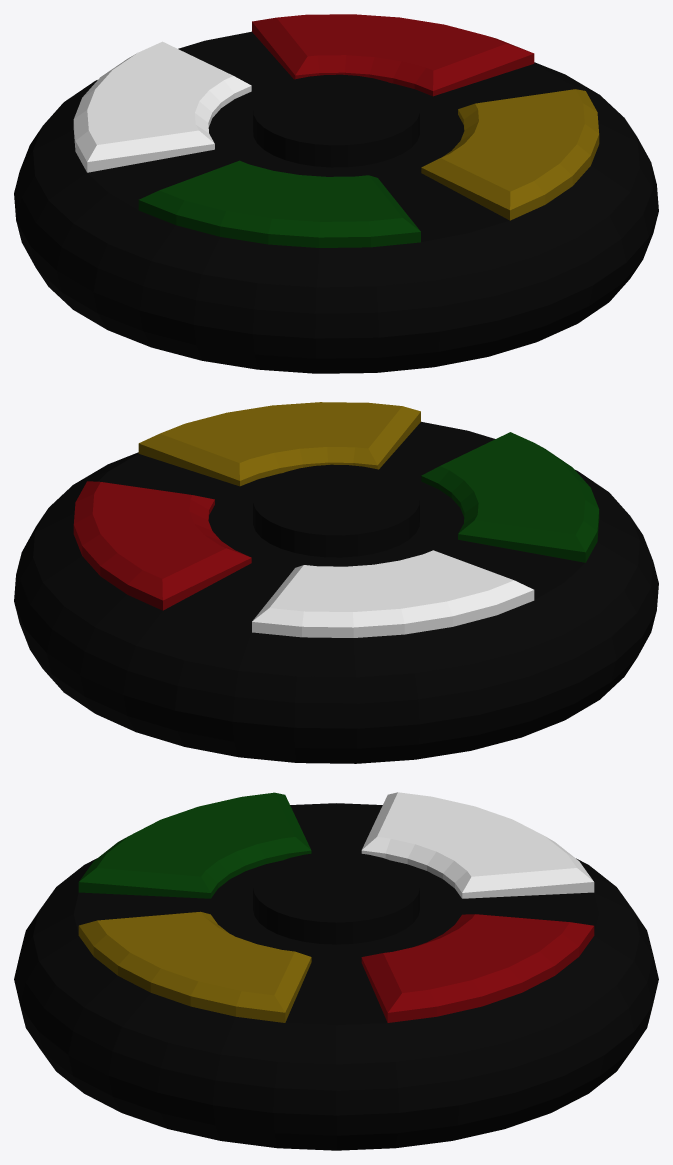
Rendered from SimonToy.fbx.
3 views of the same model, one above another, from view 1: azimuth 30°, elevation 25°; view 2: azimuth 150°, elevation 25°; view 3: azimuth 270°, elevation 25° (orthographic).
Parts seen in each view (by area): view 1: Cylinder, Green, Yellow, Red, Blue; view 2: Cylinder, Blue, Yellow, Red, Green; view 3: Cylinder, Yellow, Red, Blue, Green.
Boxes of the visible parts, bbox=[...] form: Cylinder: bbox=[14, 31, 658, 373]; Green: bbox=[138, 160, 420, 247]; Yellow: bbox=[421, 89, 599, 220]; Red: bbox=[252, 14, 534, 96]; Blue: bbox=[73, 41, 251, 172]; Cylinder: bbox=[14, 421, 658, 763]; Blue: bbox=[252, 550, 534, 637]; Yellow: bbox=[138, 402, 420, 486]; Red: bbox=[73, 481, 251, 610]; Green: bbox=[421, 432, 599, 562]; Cylinder: bbox=[14, 803, 658, 1150]; Yellow: bbox=[78, 911, 311, 1022]; Red: bbox=[361, 914, 594, 1022]; Blue: bbox=[361, 792, 594, 898]; Green: bbox=[78, 792, 311, 898].
Bounding box in the file's own units: 475 × 110 × 475.
